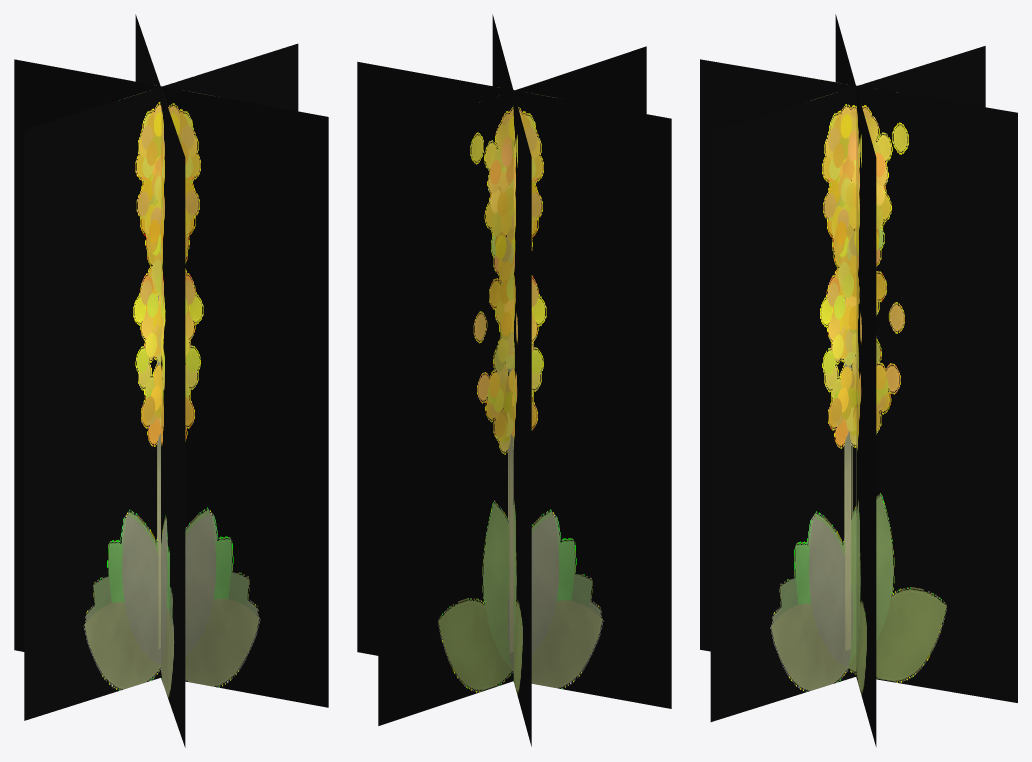
The model's file is Plant_Mullein_1.gltf.
3 views of the same model, side by side, from view 1: azimuth 30°, elevation 25°; view 2: azimuth 150°, elevation 25°; view 3: azimuth 270°, elevation 25° (orthographic).
Parts seen in each view (by area): view 1: Plant_Mullein_1; view 2: Plant_Mullein_1; view 3: Plant_Mullein_1.
Boxes of the visible parts, x1,y1,x2,y2 form: Plant_Mullein_1: (14, 14, 328, 747); Plant_Mullein_1: (357, 14, 671, 746); Plant_Mullein_1: (700, 14, 1017, 746).
Size of the model in its own units: 0.6951 by 1.33 by 0.6504.
Materials: 1 (1 with a texture image).
